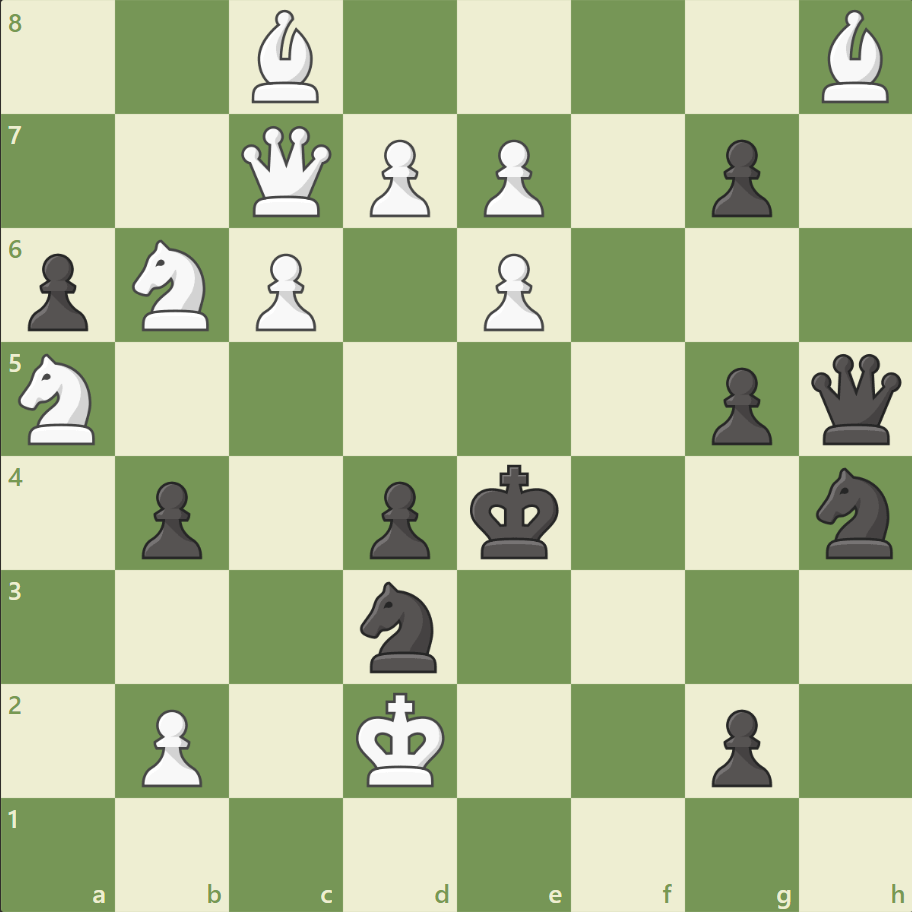B: (244, 6, 328, 109), (812, 6, 896, 109)
K: (351, 685, 451, 793)
N: (124, 234, 222, 337), (11, 348, 108, 450)
P: (474, 132, 549, 223), (247, 246, 322, 337), (474, 246, 549, 337), (133, 700, 208, 791), (361, 132, 435, 223)
Q: (237, 122, 336, 222)
k: (465, 458, 565, 566)
n: (351, 575, 449, 677), (806, 461, 903, 564)
p: (701, 132, 776, 223), (20, 246, 95, 337), (701, 359, 776, 450), (133, 473, 208, 564), (701, 700, 776, 791), (361, 473, 435, 564)
q: (805, 349, 904, 449)
